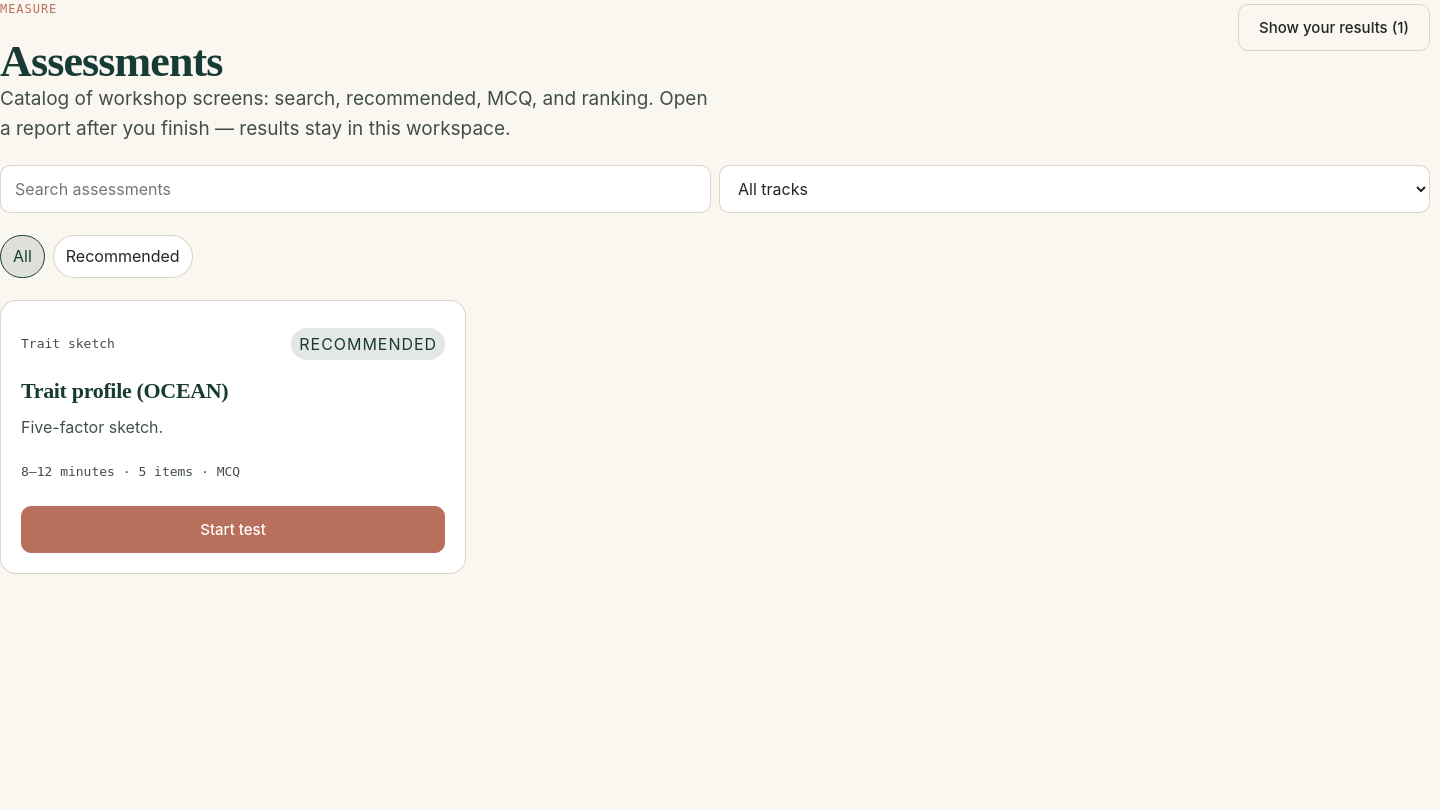
it: AssessmentsCatalog › opens all reports from the results button
Click the button "Show your results (1)". click: (1334, 28)
box: [1238,4,1430,51]
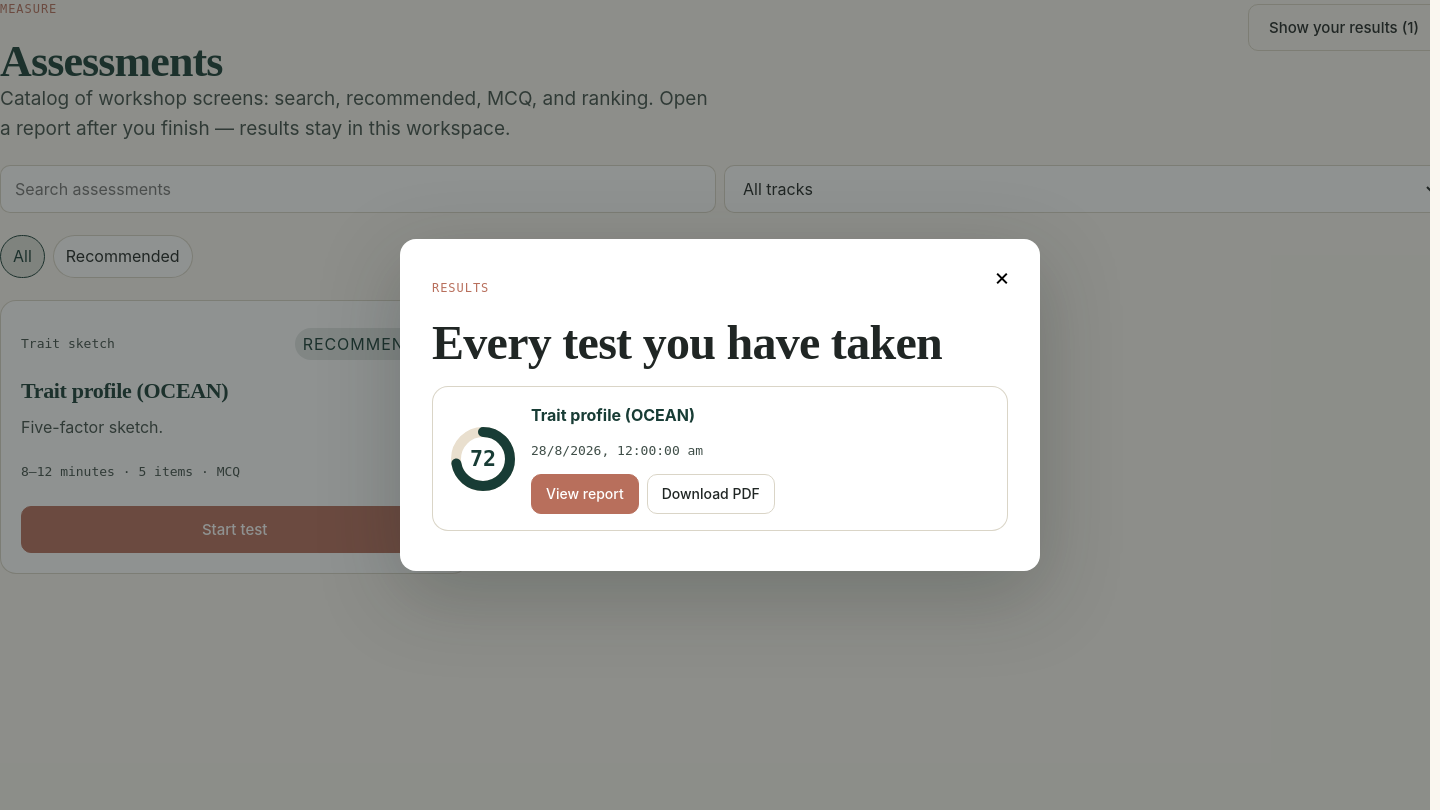
Check: the dialog named "my results" is shown, box [400,239,1040,571]
